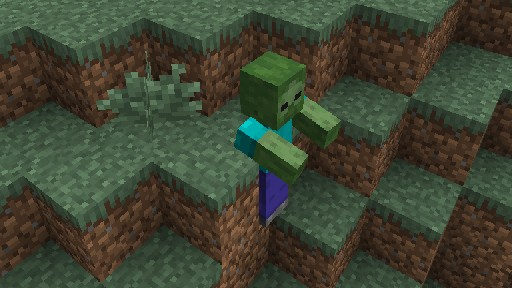zombie: (233, 49, 341, 227)
